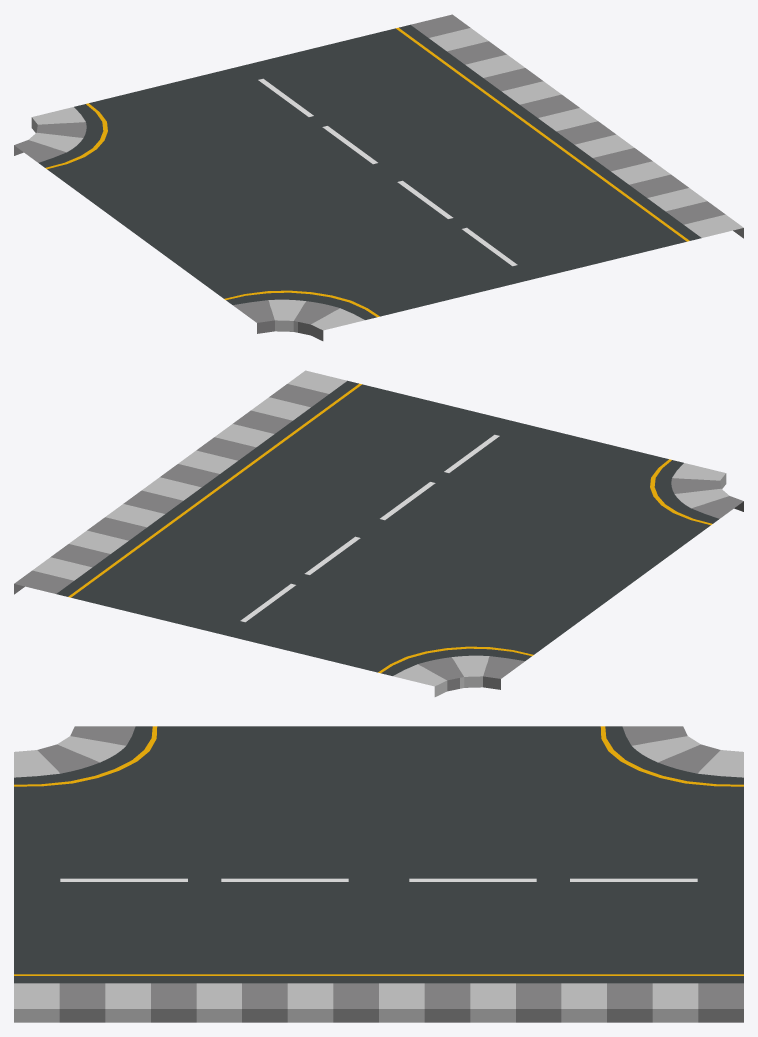
The model's file is SM_Road_08_A.FBX.
3 renders of one model, top to bottom at view 1: azimuth 30°, elevation 25°; view 2: azimuth 150°, elevation 25°; view 3: azimuth 270°, elevation 25°, orthographic. The views are drawn at different scales.
Visible parts, largest first — view 1: SM_Road_08_A; view 2: SM_Road_08_A; view 3: SM_Road_08_A.
Part boxes in pixels (x1,y1,x2,y2): SM_Road_08_A: (14,14,743,340); SM_Road_08_A: (14,370,743,696); SM_Road_08_A: (14,726,743,1022).
Size of what is drawn, in the model's own units: 1100 by 1200 by 25.
